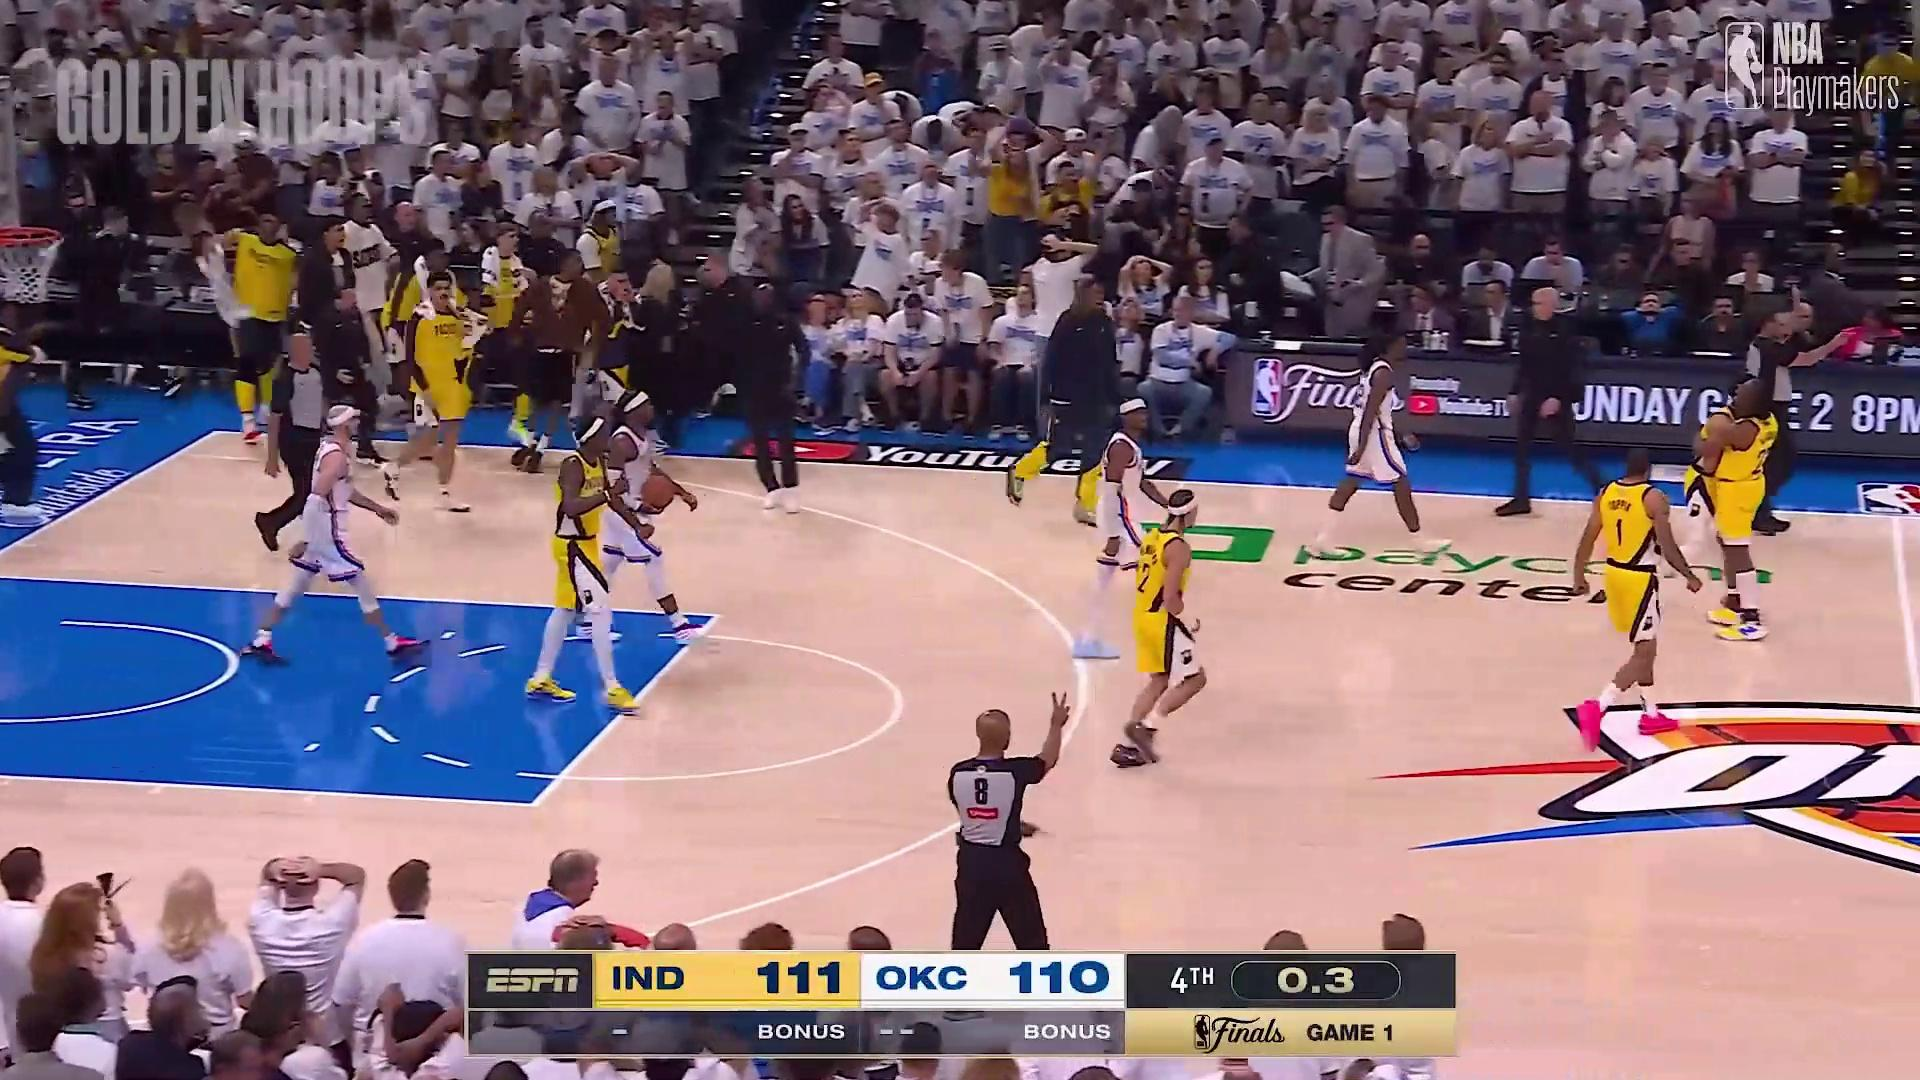ball: (638, 467, 676, 516)
